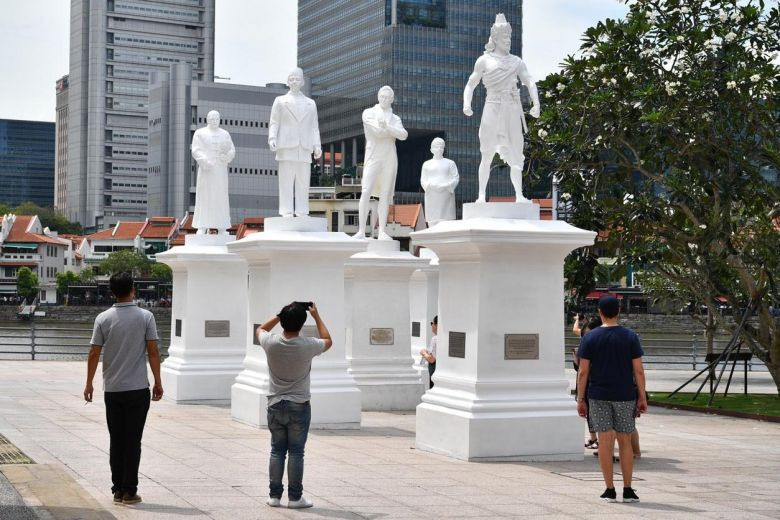person: (80, 271, 167, 509), (253, 297, 336, 513), (570, 294, 651, 508), (420, 312, 439, 389)
person-like: (458, 7, 546, 205), (264, 65, 327, 220), (352, 82, 410, 244), (188, 106, 239, 236), (419, 131, 462, 226)
